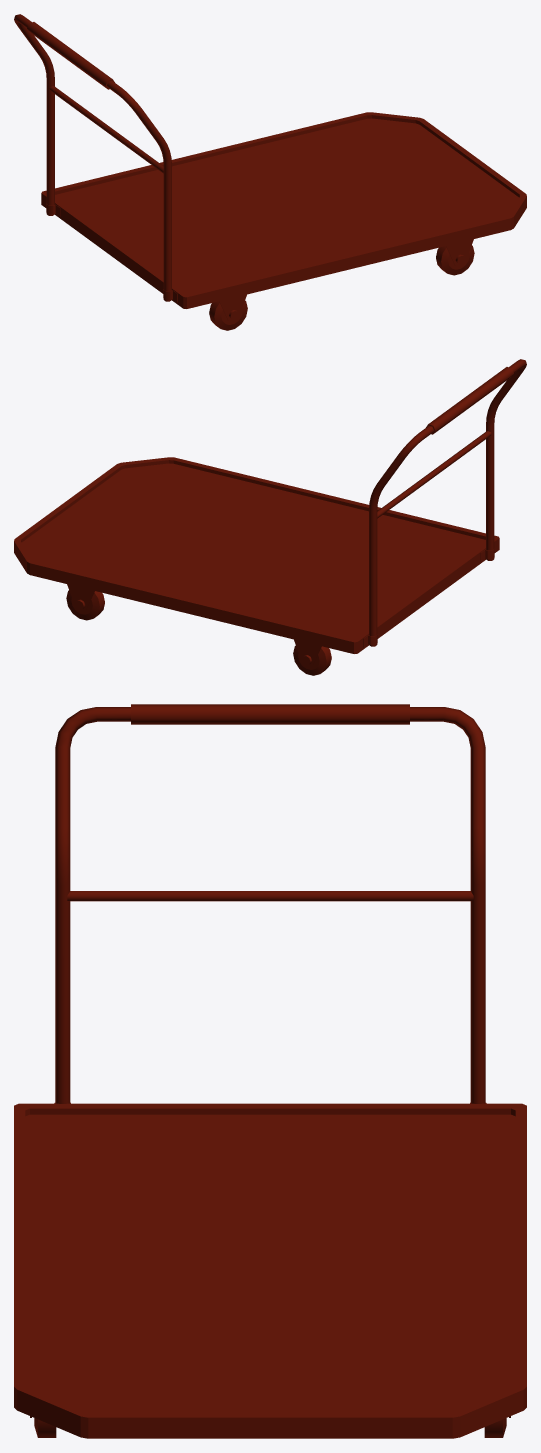
File: trolley3.FBX
The picture shows the model from 3 angles, top to bottom: view 1: azimuth 30°, elevation 25°; view 2: azimuth 150°, elevation 25°; view 3: azimuth 270°, elevation 25°; orthographic projection. The views are drawn at different scales.
Parts seen in each view (by area): view 1: trolley3; view 2: trolley3; view 3: trolley3.
Part boxes in pixels (box(x1,y1,x2,y2)): trolley3: box(14, 14, 526, 330); trolley3: box(14, 359, 526, 675); trolley3: box(14, 704, 526, 1438).
Bounding box in the file's own units: 171 × 102 × 105.
